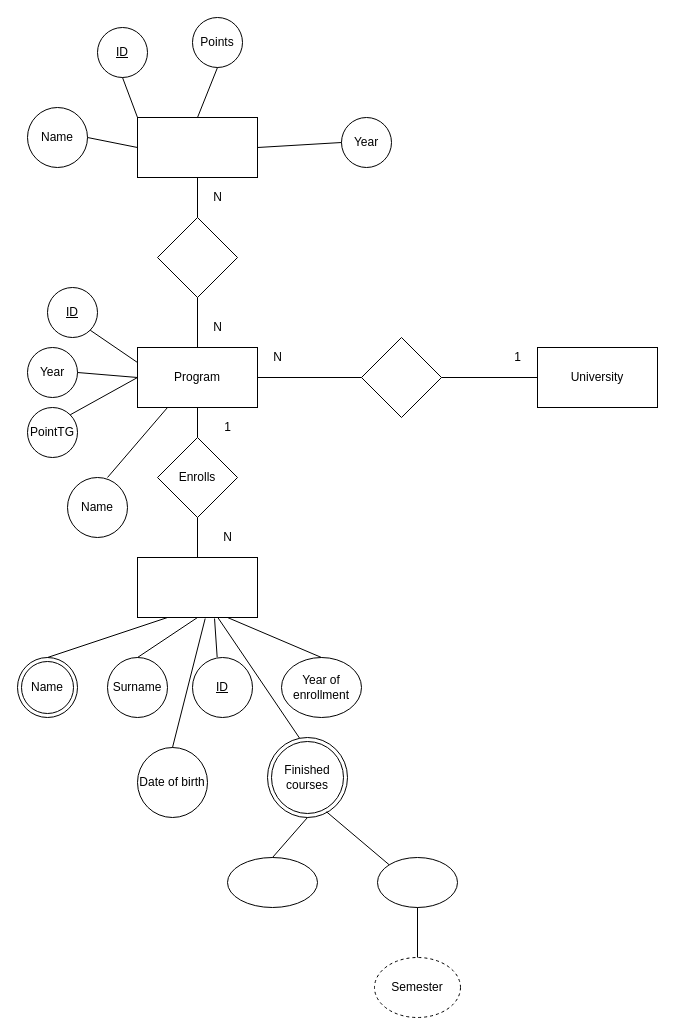
This 675x1035 diagram has some shape labels left out. Each missing label, with the centre of its shape:
"Contains" goes at pixel 197 257.
"Course" goes at pixel 197 147.
"Date" goes at pixel 417 882.
"Grade" goes at pixel 272 882.
"Manages" goes at pixel 401 377.
"Student" goes at pixel 197 587.
